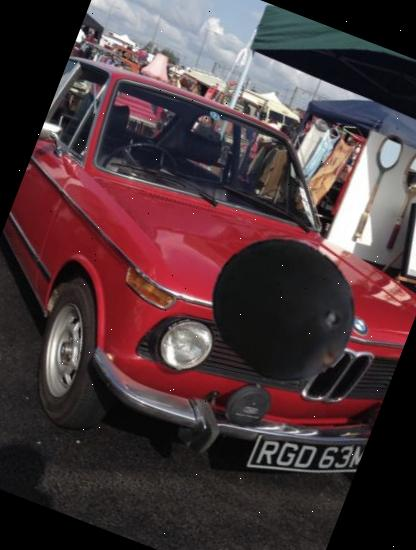Grape: (188, 212, 382, 406)
